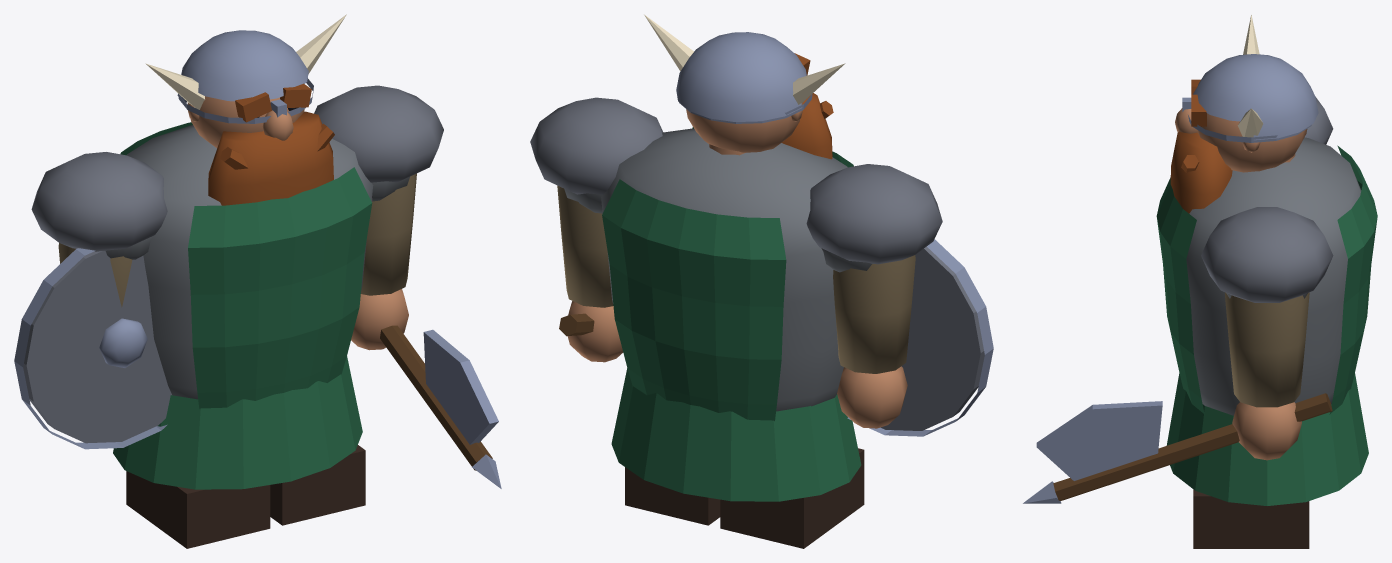
The model's file is dwarf_grunt.glb.
3 renders of one model, left to right at view 1: azimuth 30°, elevation 25°; view 2: azimuth 150°, elevation 25°; view 3: azimuth 270°, elevation 25°, orthographic. The views are drawn at different scales.
Visible parts, largest first — view 1: Body, ArmL, ArmR, Head, LegL, LegR; view 2: Body, ArmL, ArmR, Head, LegL, LegR; view 3: Body, ArmR, Head, LegR, ArmL.
Part boxes in pixels (bbox=[...]): Body: bbox=[105, 122, 409, 489]; ArmL: bbox=[14, 152, 171, 449]; ArmR: bbox=[314, 85, 501, 488]; Head: bbox=[145, 14, 346, 205]; LegL: bbox=[126, 471, 270, 548]; LegR: bbox=[270, 445, 365, 525]; Body: bbox=[564, 127, 871, 501]; ArmL: bbox=[806, 164, 993, 436]; ArmR: bbox=[530, 97, 663, 362]; Head: bbox=[644, 14, 845, 159]; LegL: bbox=[720, 448, 864, 548]; LegR: bbox=[625, 467, 720, 525]; Body: bbox=[1156, 137, 1377, 505]; ArmR: bbox=[1023, 207, 1333, 503]; Head: bbox=[1170, 15, 1318, 213]; LegR: bbox=[1193, 489, 1309, 548]; ArmL: bbox=[1305, 96, 1333, 144].
Size of the model in its own units: 1.81 by 1.87 by 1.35.
